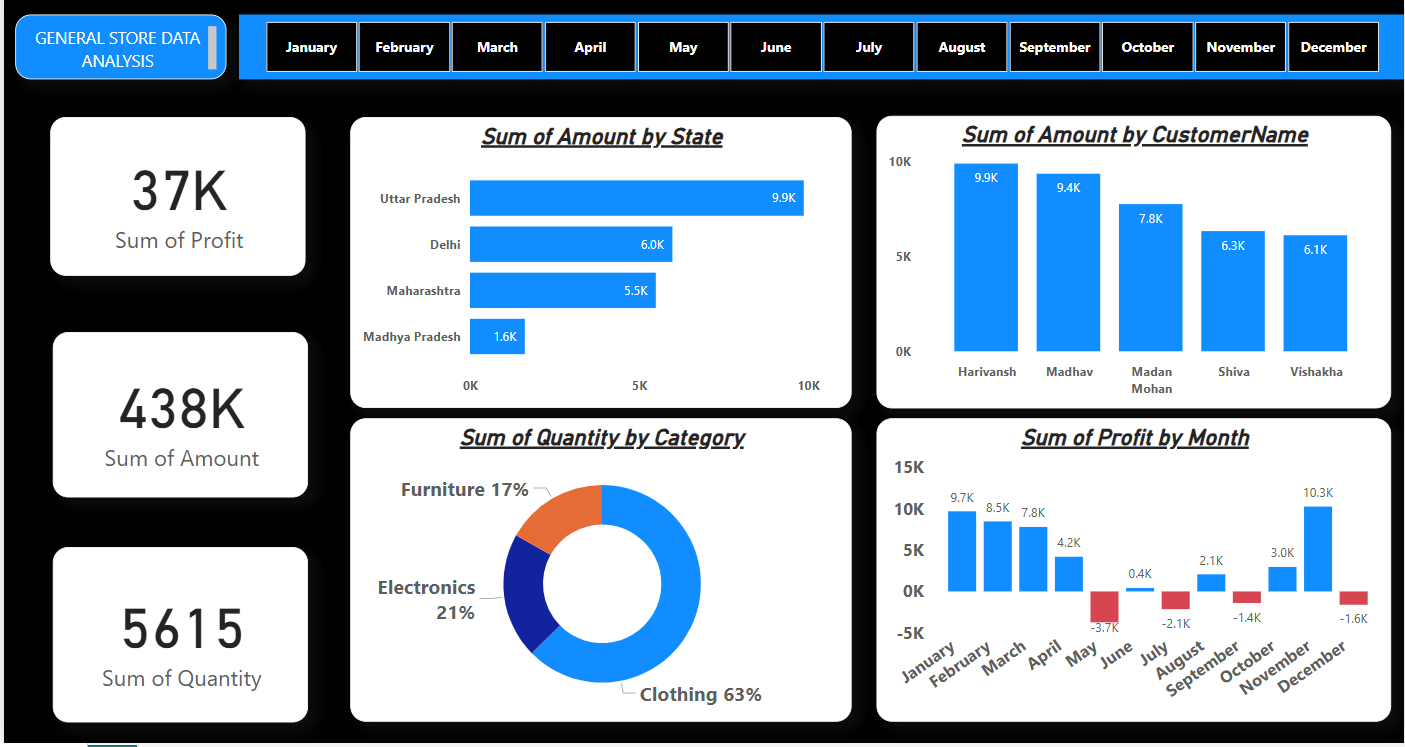

What the dashboard file says about the page in this screenshot:
{"tool":"powerbi","page":{"name":"Page 1","canvas":[1347,718],"ordinal":0},"visuals":[{"type":"textbox","box":[11,17.1,203.1,62.4],"z":0},{"type":"columnChart","fields":{"Category":["Orders.CustomerName"],"Y":["Sum(Details.Amount)"]},"box":[839.5,114.3,495.5,281.4],"z":1},{"type":"columnChart","fields":{"Category":["Orders.Order Date.Variation.Date Hierarchy.Month"],"Y":["Sum(Details.Profit)"]},"box":[839.5,405.3,495.5,292.3],"z":2},{"type":"clusteredBarChart","fields":{"Y":["Sum(Details.Amount)"],"Category":["Orders.State"]},"box":[333.1,115.5,482.3,280.2],"z":3},{"type":"donutChart","fields":{"Y":["Sum(Details.Quantity)"],"Series":["Details.Category"]},"box":[333.1,405.3,482.3,292.3],"z":4},{"type":"card","fields":{"Values":["Sum(Details.Profit)"]},"box":[44.1,115,246,153],"z":5},{"type":"card","fields":{"Values":["Sum(Details.Amount)"]},"box":[46.5,321.8,246,159.1],"z":6},{"type":"card","fields":{"Values":["Sum(Details.Quantity)"]},"box":[46.5,528.6,246,168.9],"z":7},{"type":"slicer","fields":{"Values":["Orders.Order Date.Variation.Date Hierarchy.Month"]},"box":[226.4,17.1,1120.9,62.4],"z":8}]}

Visuals, with their boxes in screenshot pixels (x1, y1, x2, y2), scaled from the page's 1347x718 canvas onto the 1405x747 screenshot:
textbox: 11, 18, 223, 83
columnChart - Orders.CustomerName x Sum(Details.Amount): 876, 119, 1392, 412
columnChart - Orders.Order Date.Variation.Date Hierarchy.Month x Sum(Details.Profit): 876, 422, 1392, 726
clusteredBarChart - Sum(Details.Amount) x Orders.State: 347, 120, 851, 412
donutChart - Sum(Details.Quantity) x Details.Category: 347, 422, 851, 726
card - Sum(Details.Profit): 46, 120, 303, 279
card - Sum(Details.Amount): 49, 335, 305, 500
card - Sum(Details.Quantity): 49, 550, 305, 726
slicer - Orders.Order Date.Variation.Date Hierarchy.Month: 236, 18, 1404, 83
